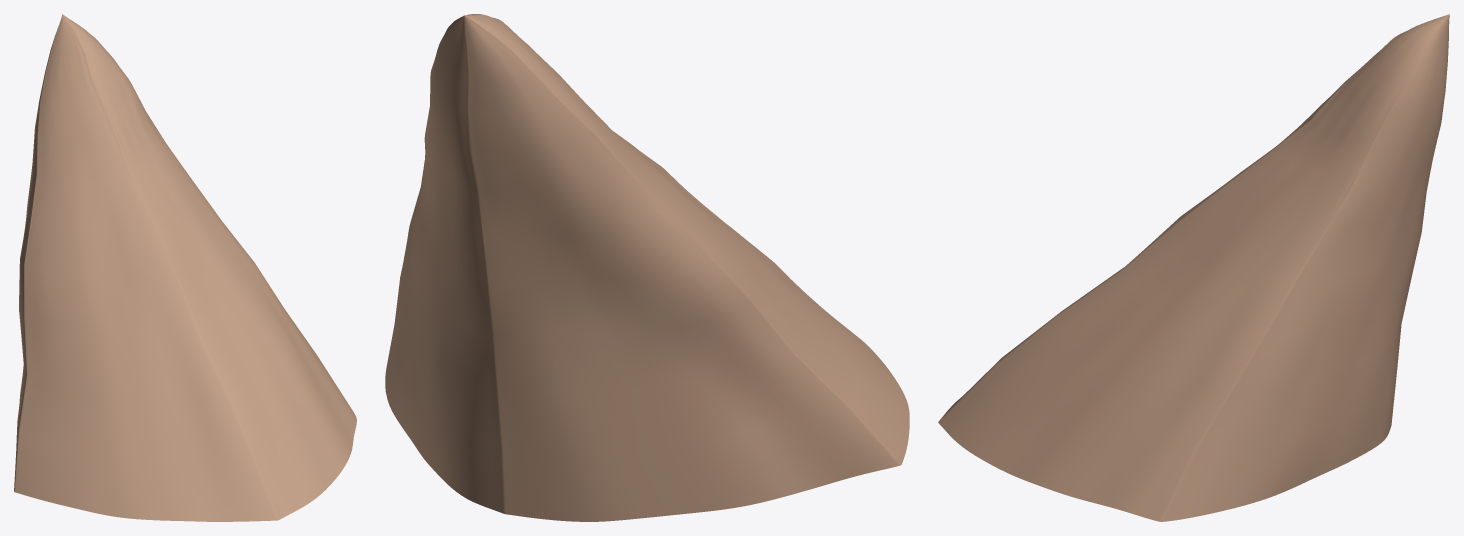
Rendered from ice_giantIceSpike_01_mesh.fbx.
3 views of the same model, side by side, from view 1: azimuth 30°, elevation 25°; view 2: azimuth 150°, elevation 25°; view 3: azimuth 270°, elevation 25° (orthographic). The views are drawn at different scales.
Visible parts, largest first — view 1: ice_spike_2; view 2: ice_spike_2; view 3: ice_spike_2.
Boxes of the visible parts, box(x1,y1,x2,y2) form: ice_spike_2: box(14, 14, 356, 521); ice_spike_2: box(385, 14, 909, 521); ice_spike_2: box(938, 14, 1449, 521).
Bounding box in the file's own units: 1758 × 1749 × 1956.
